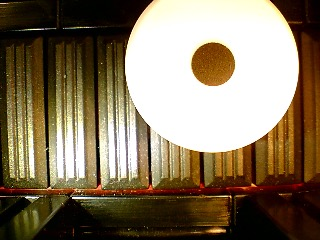BOHO: (125, 1, 300, 153)
